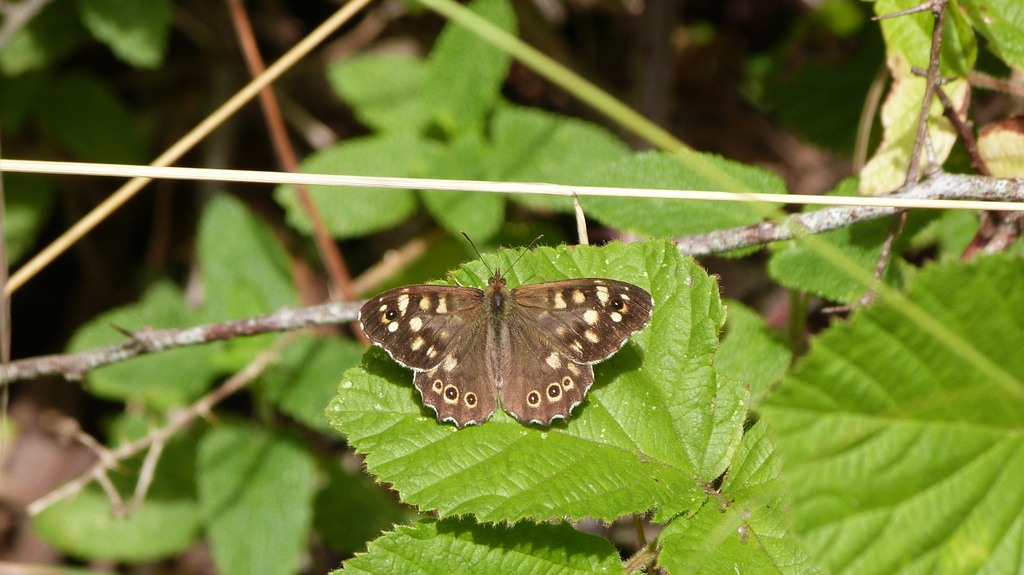Butterfly: (356, 249, 649, 431)
